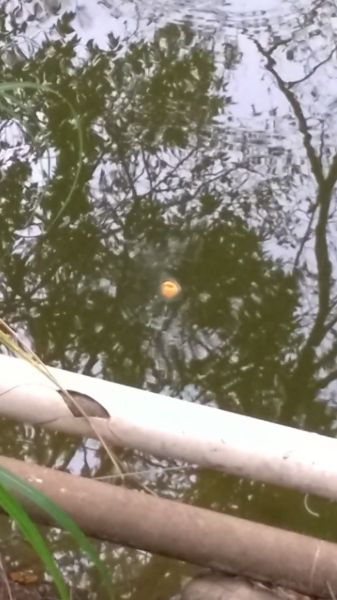eggs: (158, 277, 184, 300)
